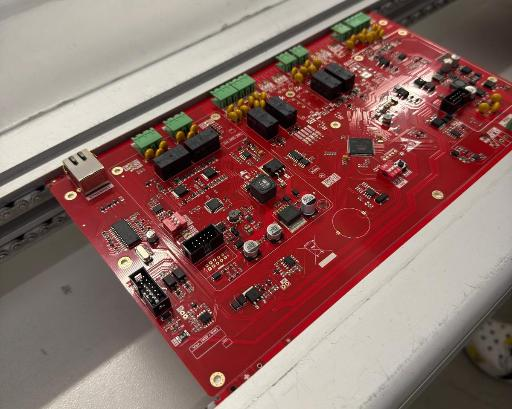var: (478, 102, 490, 114), (490, 93, 502, 104), (175, 131, 185, 143), (228, 111, 238, 123), (145, 148, 154, 161), (239, 105, 249, 116), (490, 102, 500, 113), (155, 148, 165, 158), (294, 73, 303, 84), (345, 39, 354, 50), (189, 124, 198, 134), (187, 131, 196, 139)
